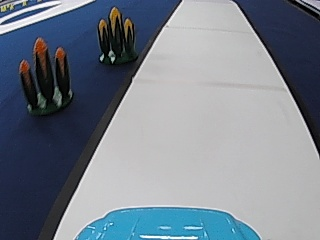corn: (19, 36, 75, 114), (94, 4, 138, 64)
